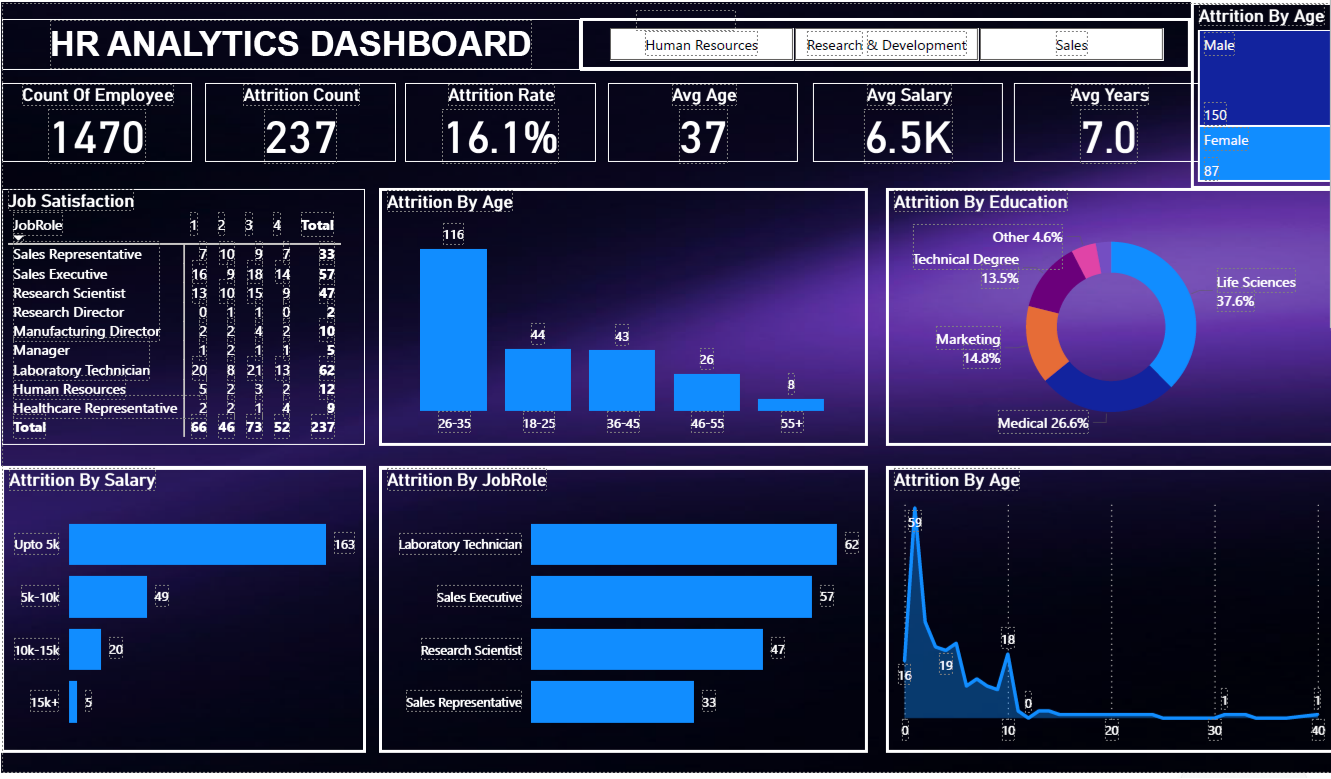

This screenshot's page, from the dashboard's own definition file:
{"tool":"powerbi","page":{"name":"Page 1","canvas":[1280,720],"ordinal":0},"visuals":[{"type":"card","title":"Attrition Count","fields":{"Values":["Sum(HR_Analytics.AttritionCount)"]},"box":[190.4,75.3,178.1,74],"z":0},{"type":"card","title":"Count Of Employee","fields":{"Values":["CountNonNull(HR_Analytics.EmpID)"]},"box":[0,75.3,178.1,74],"z":1000},{"type":"card","title":"Avg Years","fields":{"Values":["Avg(HR_Analytics.YearsAtCompany)"]},"box":[946.6,75.3,178.1,74],"z":2000},{"type":"card","title":"Attrition Rate","fields":{"Values":["HR_Analytics.AttrtionRate"]},"box":[376.7,75.3,179.5,74],"z":3000},{"type":"card","title":"Avg Salary","fields":{"Values":["Avg(HR_Analytics.MonthlyIncome)"]},"box":[758.9,75.3,178.1,74],"z":4000},{"type":"card","title":"Avg Age","fields":{"Values":["Avg(HR_Analytics.Age)"]},"box":[567.1,75.3,178.1,74],"z":5000},{"type":"donutChart","title":"Attrition By Education","fields":{"Category":["HR_Analytics.EducationField"],"Y":["Sum(HR_Analytics.AttritionCount)"]},"box":[827.4,174,420.5,239.7],"z":6000},{"type":"columnChart","title":"Attrition By Age","fields":{"Category":["HR_Analytics.AgeGroup"],"Y":["Sum(HR_Analytics.AttritionCount)"]},"box":[353.4,174,456.2,239.7],"z":7000},{"type":"pivotTable","title":"Job Satisfaction","fields":{"Rows":["HR_Analytics.JobRole"],"Columns":["HR_Analytics.JobSatisfaction"],"Values":["Sum(HR_Analytics.AttritionCount)"]},"box":[0,174,339.7,239.7],"z":8000},{"type":"barChart","title":"Attrition By Salary","fields":{"Category":["HR_Analytics.SalarySlab"],"Y":["Sum(HR_Analytics.AttritionCount)"]},"box":[0,434.2,339.7,267.1],"z":9000},{"type":"barChart","title":"Attrition By JobRole","fields":{"Category":["HR_Analytics.JobRole"],"Y":["Sum(HR_Analytics.AttritionCount)"]},"box":[353.4,434.2,456.2,267.1],"z":10000},{"type":"areaChart","title":"Attrition By Age","fields":{"Category":["HR_Analytics.YearsAtCompany"],"Y":["Sum(HR_Analytics.AttritionCount)"]},"box":[827.4,434.2,420.5,267.1],"z":11000},{"type":"slicer","title":"Attrition By Age","fields":{"Values":["HR_Analytics.Department"]},"box":[541.1,15.1,571.2,47.9],"z":12000},{"type":"textbox","box":[0,15.1,541.1,47.9],"z":13000},{"type":"treemap","title":"Attrition By Age","fields":{"Group":["HR_Analytics.Gender"],"Values":["Sum(HR_Analytics.AttritionCount)"]},"box":[1112.3,0,167.1,174],"z":13001}]}

Visuals, with their boxes in screenshot pixels (x1, y1, x2, y2):
"Attrition Count" card: 202 84 392 162
"Count Of Employee" card: 0 84 189 162
"Avg Years" card: 1006 84 1196 162
"Attrition Rate" card: 400 84 591 162
"Avg Salary" card: 807 84 996 162
"Avg Age" card: 603 84 792 162
"Attrition By Education" donutChart: 880 188 1327 443
"Attrition By Age" columnChart: 376 188 861 443
"Job Satisfaction" pivotTable: 0 188 361 443
"Attrition By Salary" barChart: 0 465 361 749
"Attrition By JobRole" barChart: 376 465 861 749
"Attrition By Age" areaChart: 880 465 1327 749
"Attrition By Age" slicer: 575 20 1183 70
textbox: 0 20 575 70
"Attrition By Age" treemap: 1183 3 1330 188
